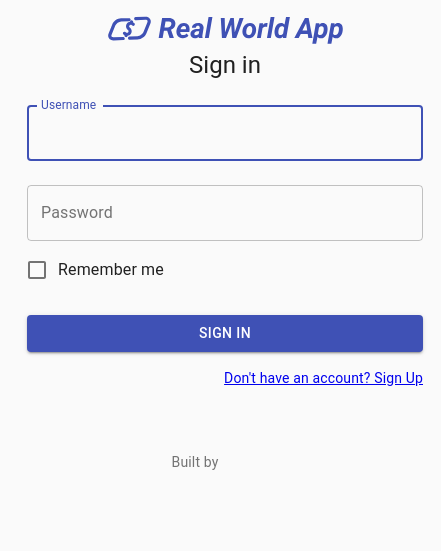
Test: Login Real World App › Login Failure
In the element with test id "signin-username": point(225, 133) [27,105,423,161], type "test"
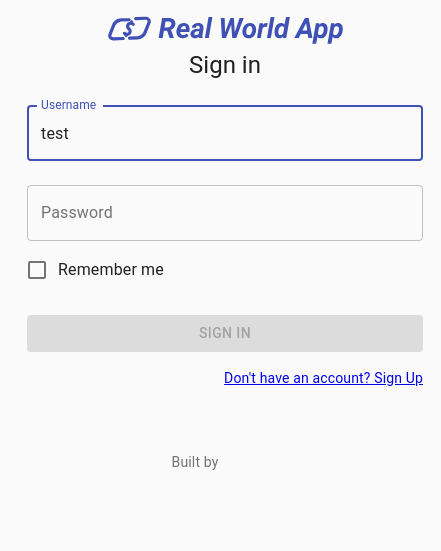
In the element with test id "signin-password": point(225, 213) [27,185,423,241], type "test"
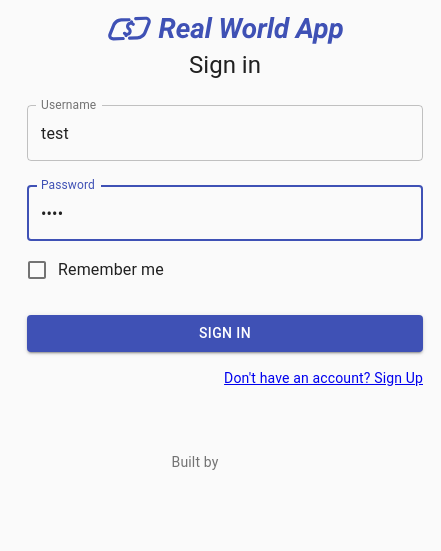
Click the icon with test id "signin-remember-me": point(37, 270) [25,258,49,282]
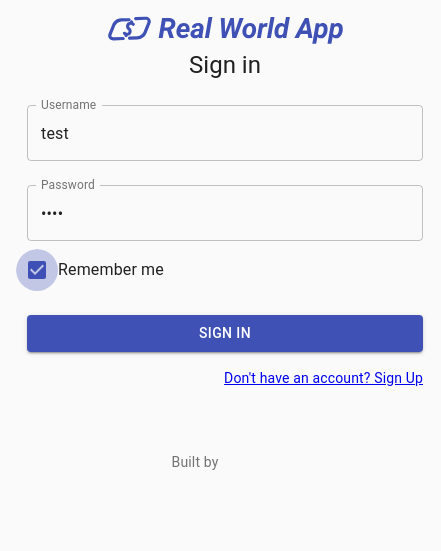
Click the button with test id "signin-submit": point(225, 334) [27,315,423,352]
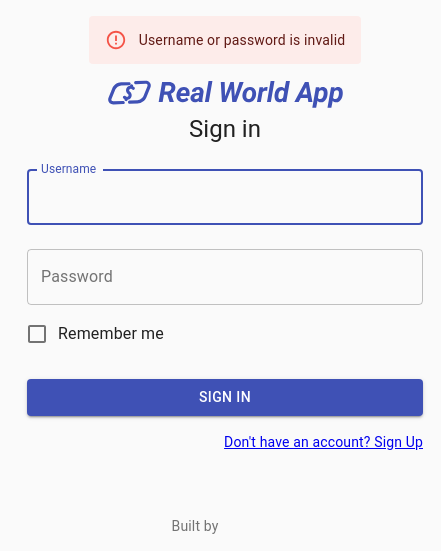
Result: the message "Username or password is invalid" is shown at [89,16,361,64]
